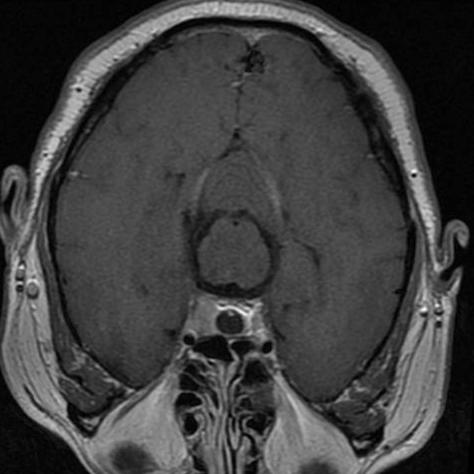Tumour-Pituitary: (178, 292, 276, 346)
